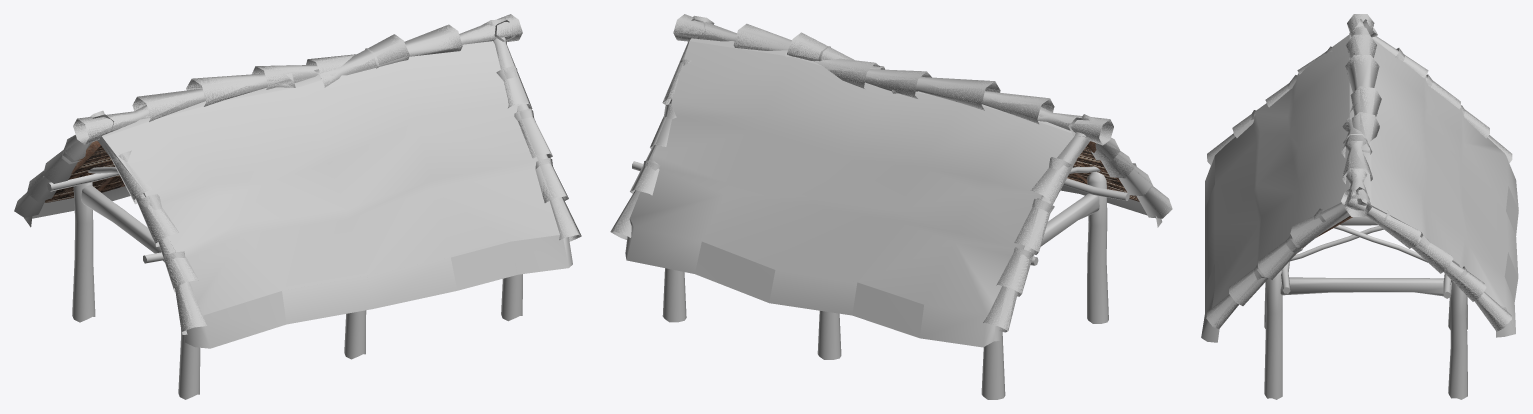
The model's file is Shelter_1.fbx.
The picture shows the model from 3 angles, left to right: view 1: azimuth 30°, elevation 25°; view 2: azimuth 150°, elevation 25°; view 3: azimuth 270°, elevation 25°; orthographic projection. The views are drawn at different scales.
Visible parts, largest first — view 1: Alphas, Wood, Roof; view 2: Alphas, Wood, Roof; view 3: Alphas, Wood.
Boxes of the visible parts, x1,y1,x2,y2 form: Alphas: (14, 14, 581, 348); Wood: (47, 158, 550, 399); Roof: (44, 140, 125, 202); Alphas: (610, 14, 1172, 347); Wood: (632, 161, 1129, 399); Roof: (1067, 141, 1139, 201); Alphas: (1201, 14, 1518, 342); Wood: (1264, 216, 1467, 399).
Bounding box in the file's own units: 1933 × 1118 × 1405.
